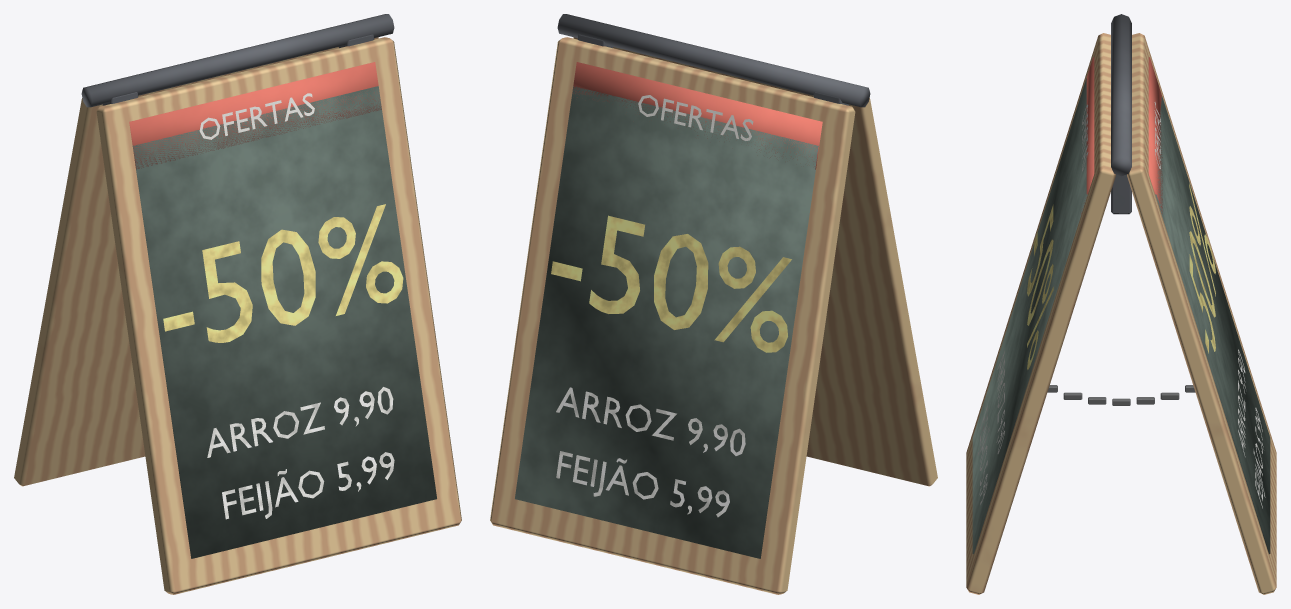
The model's file is FimMes_AFrame.fbx.
The picture shows the model from 3 angles, left to right: view 1: azimuth 30°, elevation 25°; view 2: azimuth 150°, elevation 25°; view 3: azimuth 270°, elevation 25°; orthographic projection. The views are drawn at different scales.
Parts seen in each view (by area): view 1: FimMes_AFrame; view 2: FimMes_AFrame; view 3: FimMes_AFrame.
Part boxes in pixels (<box>): FimMes_AFrame: <box>14,14,461,594</box>; FimMes_AFrame: <box>490,14,937,594</box>; FimMes_AFrame: <box>966,14,1276,594</box>.
Size of the model in its own units: 0.64 by 0.9207 by 0.5859.
1 material, 1 textured.
